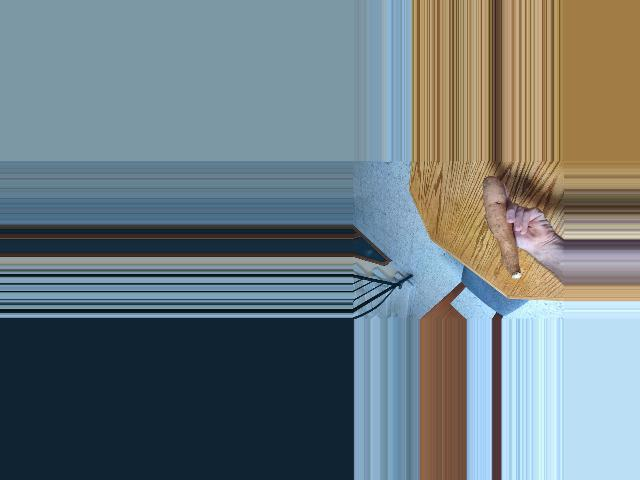sweet_potato: (478, 177, 525, 279)
